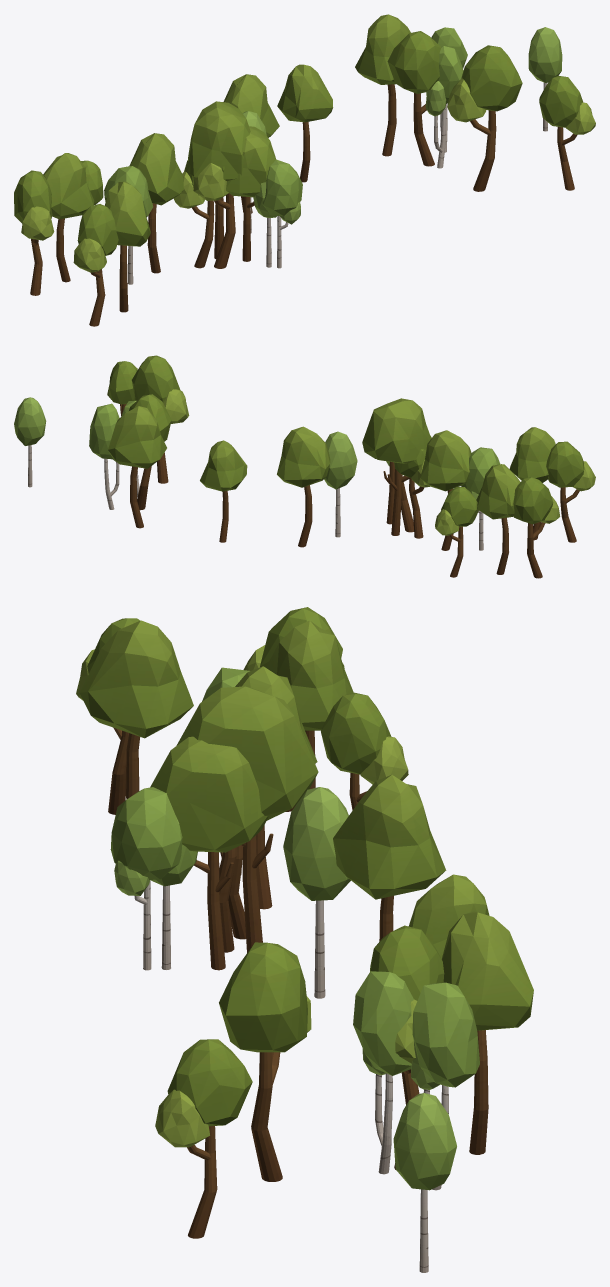
File: Trees5.gltf
3 renders of one model, top to bottom at view 1: azimuth 30°, elevation 25°; view 2: azimuth 150°, elevation 25°; view 3: azimuth 270°, elevation 25°, orthographic. The views are drawn at different scales.
Visible parts, largest first — view 1: Beechtree2 - copy.014, Beechtree3 - copy.005, Beechtree2 - copy.033, Beechtree1 - copy.020, Beechtree1 - copy.022, Beechtree2 - copy.029, Beechtree1 - copy.014, Beechtree1 - copy.043, Beechtree2 - copy.039, Beechtree2 - copy.016, Beechtree1 - copy.056, Beechtree3 - copy.041 (+10 smaller); view 2: Beechtree3 - copy.005, Beechtree1 - copy.014, Beechtree1 - copy.007, Beechtree1 - copy.020, Beechtree2 - copy.014, Beechtree2 - copy.039, Beechtree2 - copy.016, Beechtree1 - copy.022, Beechtree1 - copy.043, Beechtree2 - copy.031, Beechtree1 - copy.056, BirchTree1 - copy.005 (+8 smaller); view 3: Beechtree3 - copy.005, Beechtree3 - copy.041, Beechtree2 - copy.014, Beechtree1 - copy.007, Beechtree1 - copy.056, Beechtree1 - copy.014, Beechtree2 - copy.029, BirchTree3 - copy.024, BirchTree1 - copy.005, BirchTree2 - copy.032, BirchTree2 - copy.021, Beechtree1 - copy.022 (+10 smaller).
Boxes of the visible parts, <box> form: Beechtree2 - copy.014: <box>447,45,522,191</box>; Beechtree3 - copy.005: <box>188,101,250,258</box>; Beechtree2 - copy.033: <box>387,31,441,166</box>; Beechtree1 - copy.020: <box>129,133,183,273</box>; Beechtree1 - copy.022: <box>43,153,94,282</box>; Beechtree2 - copy.029: <box>539,75,595,190</box>; Beechtree1 - copy.014: <box>355,14,410,156</box>; Beechtree1 - copy.043: <box>277,64,333,182</box>; Beechtree2 - copy.039: <box>73,204,118,326</box>; Beechtree2 - copy.016: <box>14,170,54,295</box>; Beechtree1 - copy.056: <box>104,181,150,312</box>; Beechtree3 - copy.041: <box>226,126,276,261</box>; Beechtree3 - copy.005: <box>363,398,431,535</box>; Beechtree1 - copy.014: <box>108,406,166,528</box>; Beechtree1 - copy.007: <box>277,426,330,547</box>; Beechtree1 - copy.020: <box>420,430,471,550</box>; Beechtree2 - copy.014: <box>131,355,189,483</box>; Beechtree2 - copy.039: <box>546,441,595,542</box>; Beechtree2 - copy.016: <box>513,476,560,578</box>; Beechtree1 - copy.022: <box>476,464,520,574</box>; Beechtree1 - copy.043: <box>200,440,247,542</box>; Beechtree2 - copy.031: <box>435,487,478,577</box>; Beechtree1 - copy.056: <box>509,427,555,540</box>; BirchTree1 - copy.005: <box>324,431,357,537</box>; Beechtree3 - copy.005: <box>176,686,318,952</box>; Beechtree3 - copy.041: <box>150,736,268,970</box>; Beechtree2 - copy.014: <box>219,942,311,1181</box>; Beechtree1 - copy.007: <box>333,775,446,941</box>; Beechtree1 - copy.056: <box>79,620,193,799</box>; Beechtree1 - copy.014: <box>442,911,533,1154</box>; Beechtree2 - copy.029: <box>155,1039,252,1238</box>; BirchTree3 - copy.024: <box>110,787,182,970</box>; BirchTree1 - copy.005: <box>283,787,350,998</box>; BirchTree2 - copy.032: <box>411,982,479,1190</box>; BirchTree2 - copy.021: <box>353,971,413,1174</box>; Beechtree1 - copy.022: <box>266,620,353,788</box>.
Bounding box in the file's own units: 44.96 × 11.37 × 17.76.
Materials: 6 (6 with a texture image).
